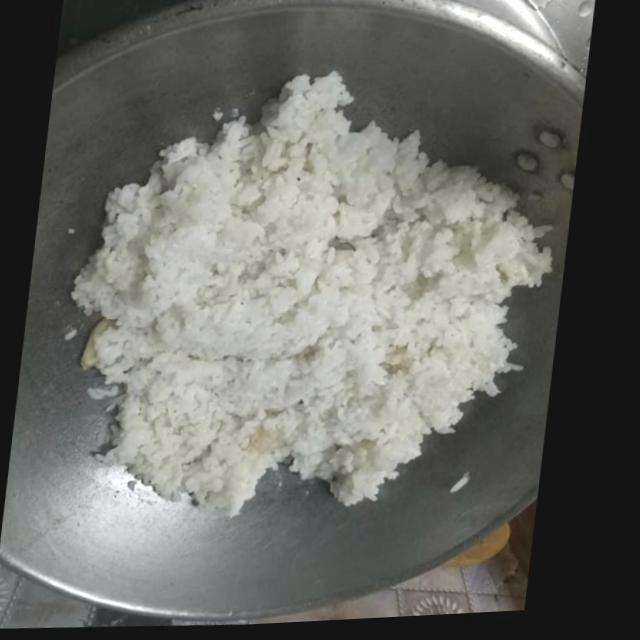left_over_food: (77, 74, 558, 518)
